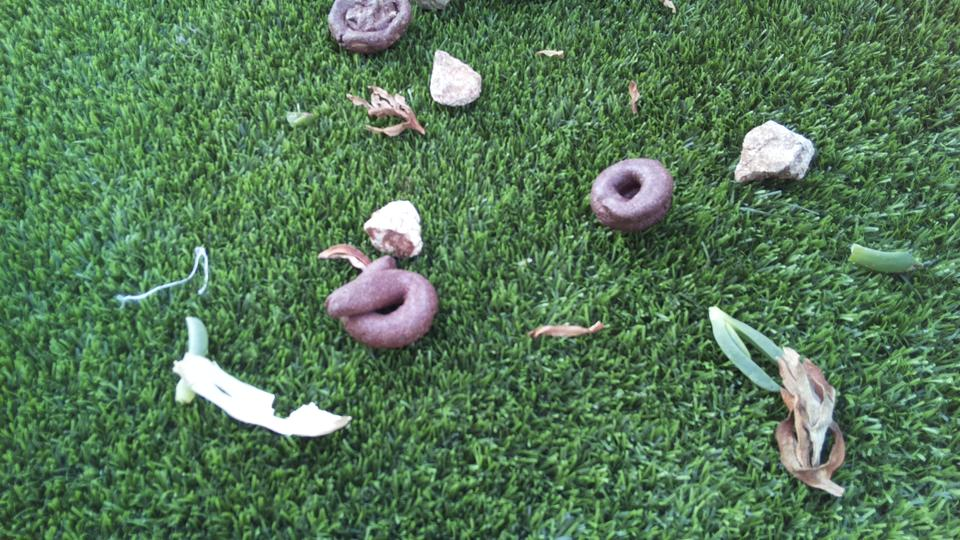poop: (323, 254, 443, 350), (583, 154, 676, 233), (321, 1, 415, 54)
